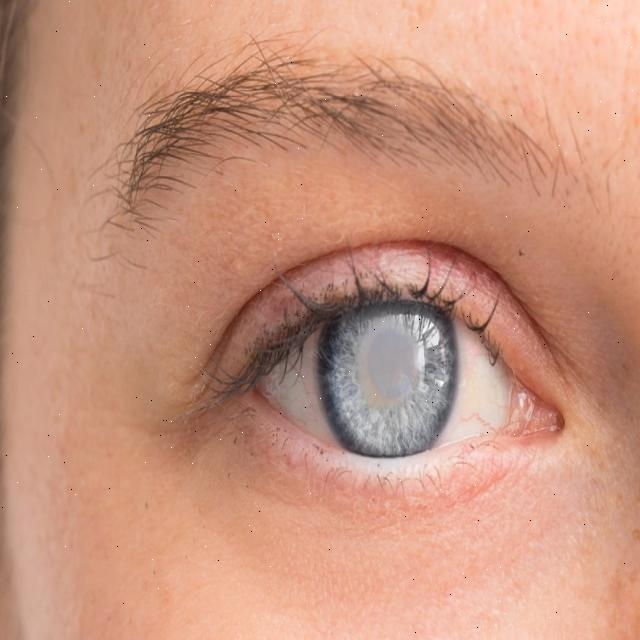Cataract: (314, 266, 454, 464)
